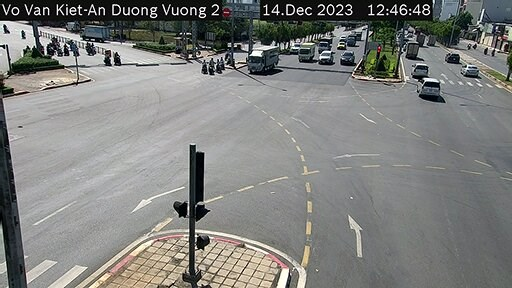car: (419, 73, 442, 99), (445, 51, 468, 67), (411, 62, 431, 75), (460, 62, 477, 76), (339, 51, 353, 65), (339, 41, 349, 54)
motorbike: (196, 58, 210, 74), (110, 50, 122, 68), (100, 50, 110, 68), (205, 56, 215, 73), (218, 56, 227, 73), (213, 59, 221, 71)
truck: (249, 44, 278, 81), (298, 43, 314, 68), (318, 49, 333, 68), (424, 33, 438, 50), (408, 41, 420, 60), (417, 32, 430, 48), (318, 38, 328, 51)
